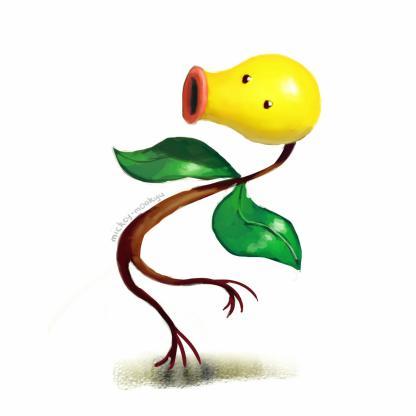Bellsprout: (98, 48, 330, 375)
